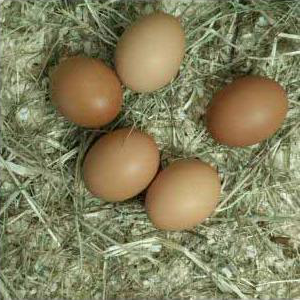egg: (205, 76, 288, 148), (81, 128, 160, 203), (115, 12, 185, 93), (144, 159, 221, 232), (52, 58, 123, 128)
